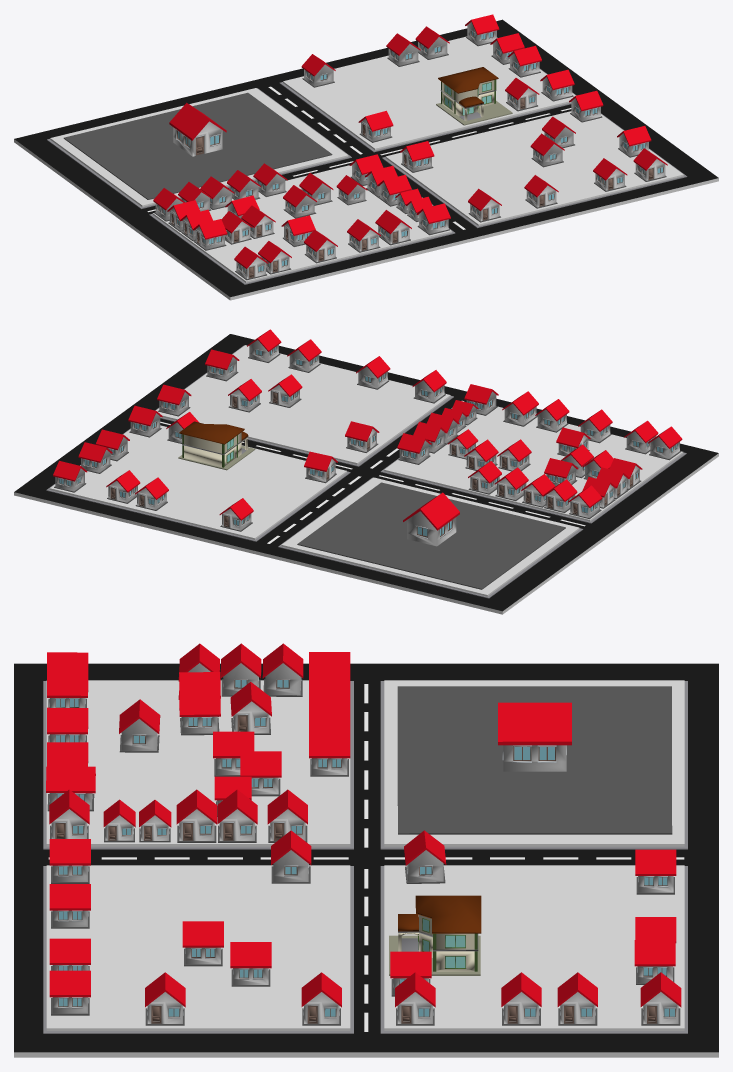
3 renders of one model, top to bottom at view 1: azimuth 30°, elevation 25°; view 2: azimuth 150°, elevation 25°; view 3: azimuth 270°, elevation 25°, orthographic. The views are drawn at different scales.
Parts seen in each view (by area): view 1: Plane, Plane.001, Plane.052, Cube, Plane.004, Plane.050, Plane.024, Plane.002, Plane.068, Plane.012, Plane.067, Plane.015 (+40 smaller); view 2: Plane, Plane.001, Plane.052, Cube, Plane.004, Plane.050, Plane.051, Plane.024, Plane.002, Plane.068, Plane.030, Plane.057 (+41 smaller); view 3: Plane, Plane.001, Plane.052, Cube, Plane.050, Plane.003, Plane.004, Plane.006, Plane.002, Plane.065, Plane.005, Plane.011 (+43 smaller).
Boxes of the visible parts, x1,y1,x2,y2 form: Plane: [14, 36, 718, 300]; Plane.001: [14, 19, 718, 296]; Plane.052: [63, 92, 332, 199]; Cube: [436, 67, 512, 125]; Plane.004: [49, 82, 684, 284]; Plane.050: [169, 102, 226, 140]; Plane.024: [375, 210, 411, 245]; Plane.002: [258, 83, 478, 232]; Plane.068: [540, 69, 574, 101]; Plane.012: [400, 141, 434, 172]; Plane.067: [507, 45, 541, 77]; Plane.015: [193, 219, 227, 250]; Plane: [14, 345, 718, 614]; Plane.001: [14, 334, 718, 611]; Plane.052: [297, 482, 565, 589]; Cube: [178, 421, 255, 470]; Plane.004: [49, 396, 686, 597]; Plane.050: [403, 492, 459, 530]; Plane.051: [407, 511, 456, 546]; Plane.024: [502, 391, 538, 426]; Plane.002: [255, 396, 452, 546]; Plane.068: [128, 405, 162, 437]; Plane.030: [397, 433, 431, 464]; Plane.057: [205, 349, 239, 381]; Plane: [14, 680, 718, 1057]; Plane.001: [14, 663, 718, 1052]; Plane.052: [397, 686, 672, 834]; Cube: [389, 895, 481, 975]; Plane.050: [498, 702, 571, 745]; Plane.003: [350, 683, 384, 1030]; Plane.004: [43, 681, 687, 1030]; Plane.006: [48, 684, 684, 1031]; Plane.002: [46, 846, 684, 849]; Plane.065: [640, 972, 681, 1025]; Plane.005: [43, 681, 687, 1033]; Plane.011: [309, 731, 350, 776].
Size of the model in its own units: 79.27 by 6.45 by 60.78.
